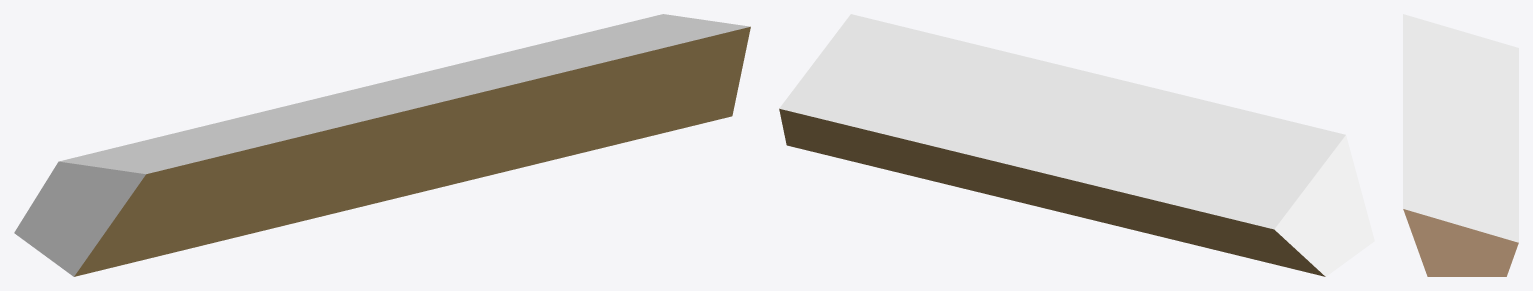
Rendered from Simple_Firewood_Snow_05_LOD.fbx.
The picture shows the model from 3 angles, left to right: view 1: azimuth 30°, elevation 25°; view 2: azimuth 150°, elevation 25°; view 3: azimuth 270°, elevation 25°; orthographic projection. The views are drawn at different scales.
Parts seen in each view (by area): view 1: Simple_Firewood_Snow_05_LOD0; view 2: Simple_Firewood_Snow_05_LOD0; view 3: Simple_Firewood_Snow_05_LOD0.
Boxes of the visible parts, <box> form: Simple_Firewood_Snow_05_LOD0: <box>14,14,750,276</box>; Simple_Firewood_Snow_05_LOD0: <box>779,14,1374,276</box>; Simple_Firewood_Snow_05_LOD0: <box>1403,14,1518,276</box>.
Size of what is drawn, in the model's own units: 51.8 by 7.76 by 11.95.
